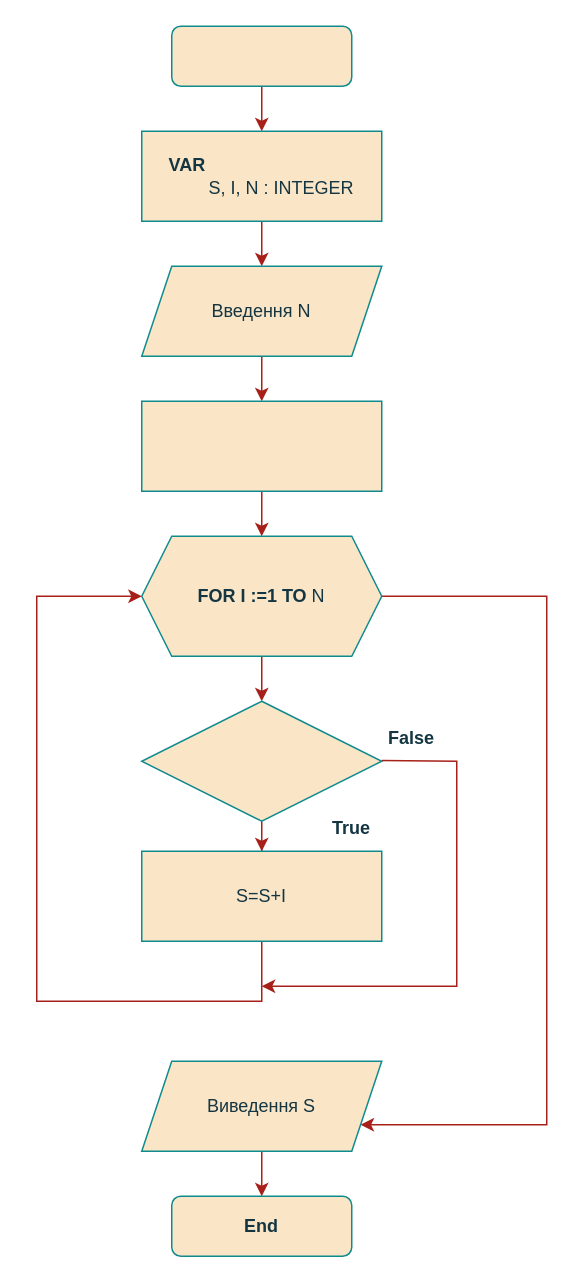
Image size: 585x1283. Some labels were removed from this diagram. Each missing label, with the centre of its shape:
"I MOD 2 =0" goes at (261,760).
"S := 0" goes at (261,445).
"Start" goes at (261,55).
